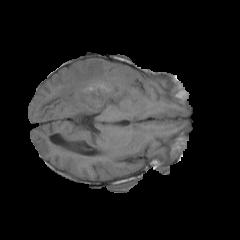glioma: (39, 60, 137, 154)
